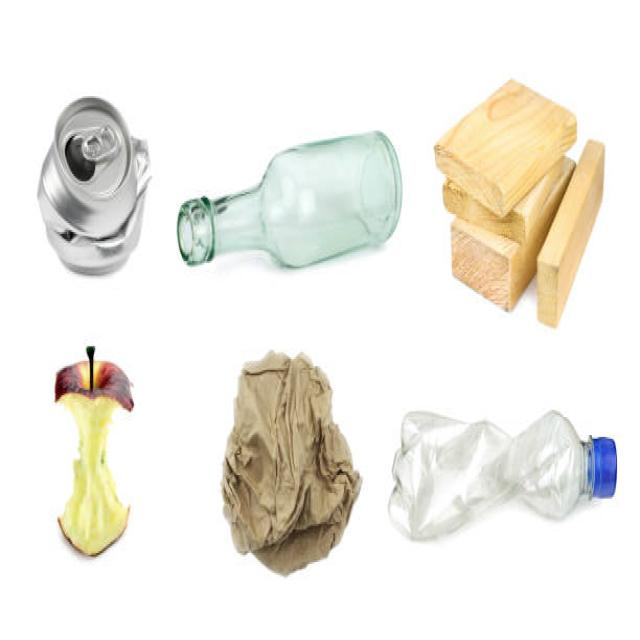glass: (175, 125, 409, 267)
metal: (29, 102, 155, 264)
paper: (226, 332, 361, 580)
plastic: (390, 417, 619, 544)
